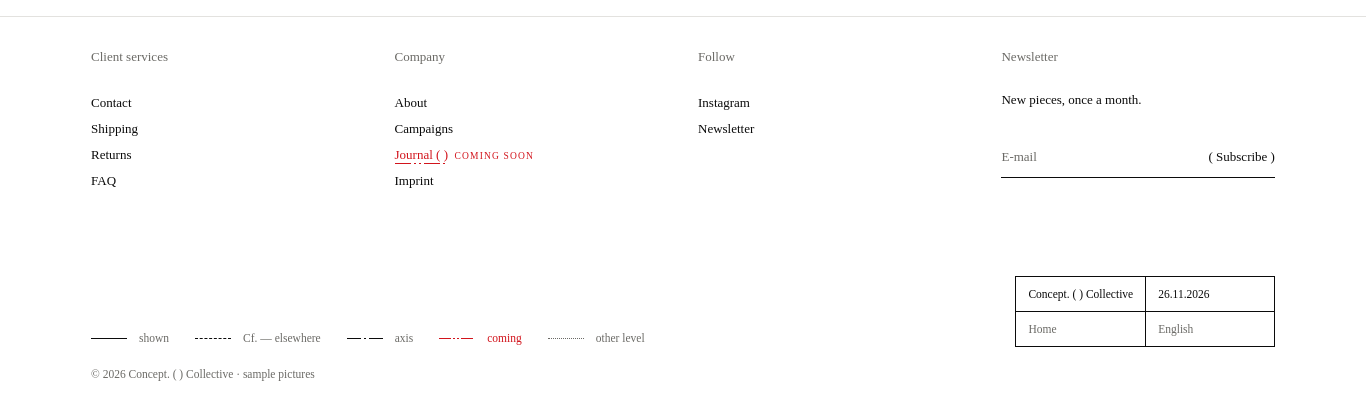
Test: Newsletter form › asks for a valid address before it sends anything
Type "nobody" into the field with placeholder "E-mail" at (1099, 157), box [1002, 136, 1196, 177]
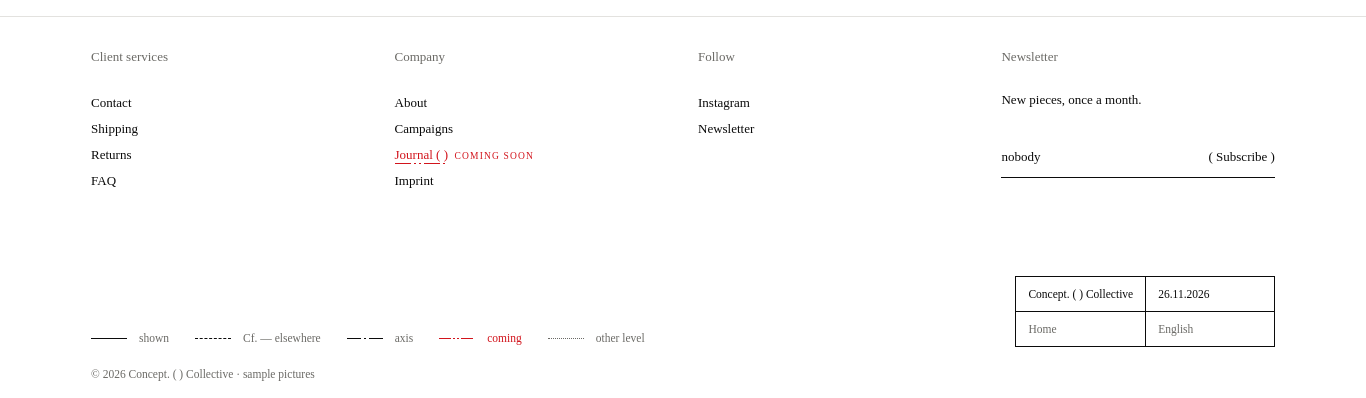
Click the button "( Subscribe )" at (1236, 157), box [1196, 136, 1275, 177]
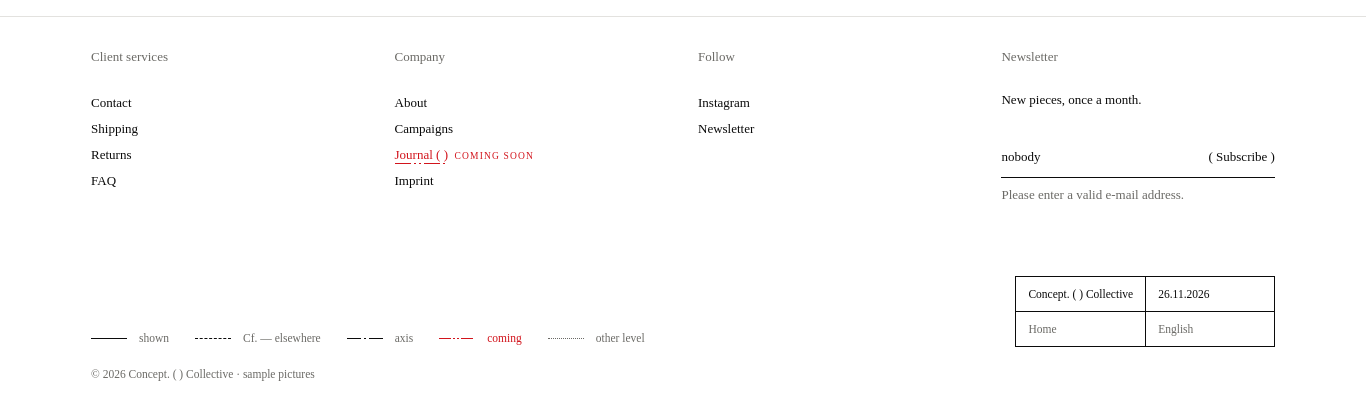
Check: the message reads "Please enter a valid e-mail address.", box [1002, 187, 1184, 202]
